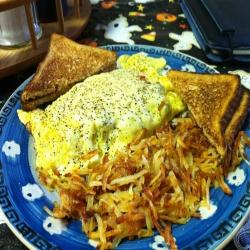bread: (16, 30, 122, 112), (167, 67, 250, 162)
omelette: (22, 54, 186, 174)
